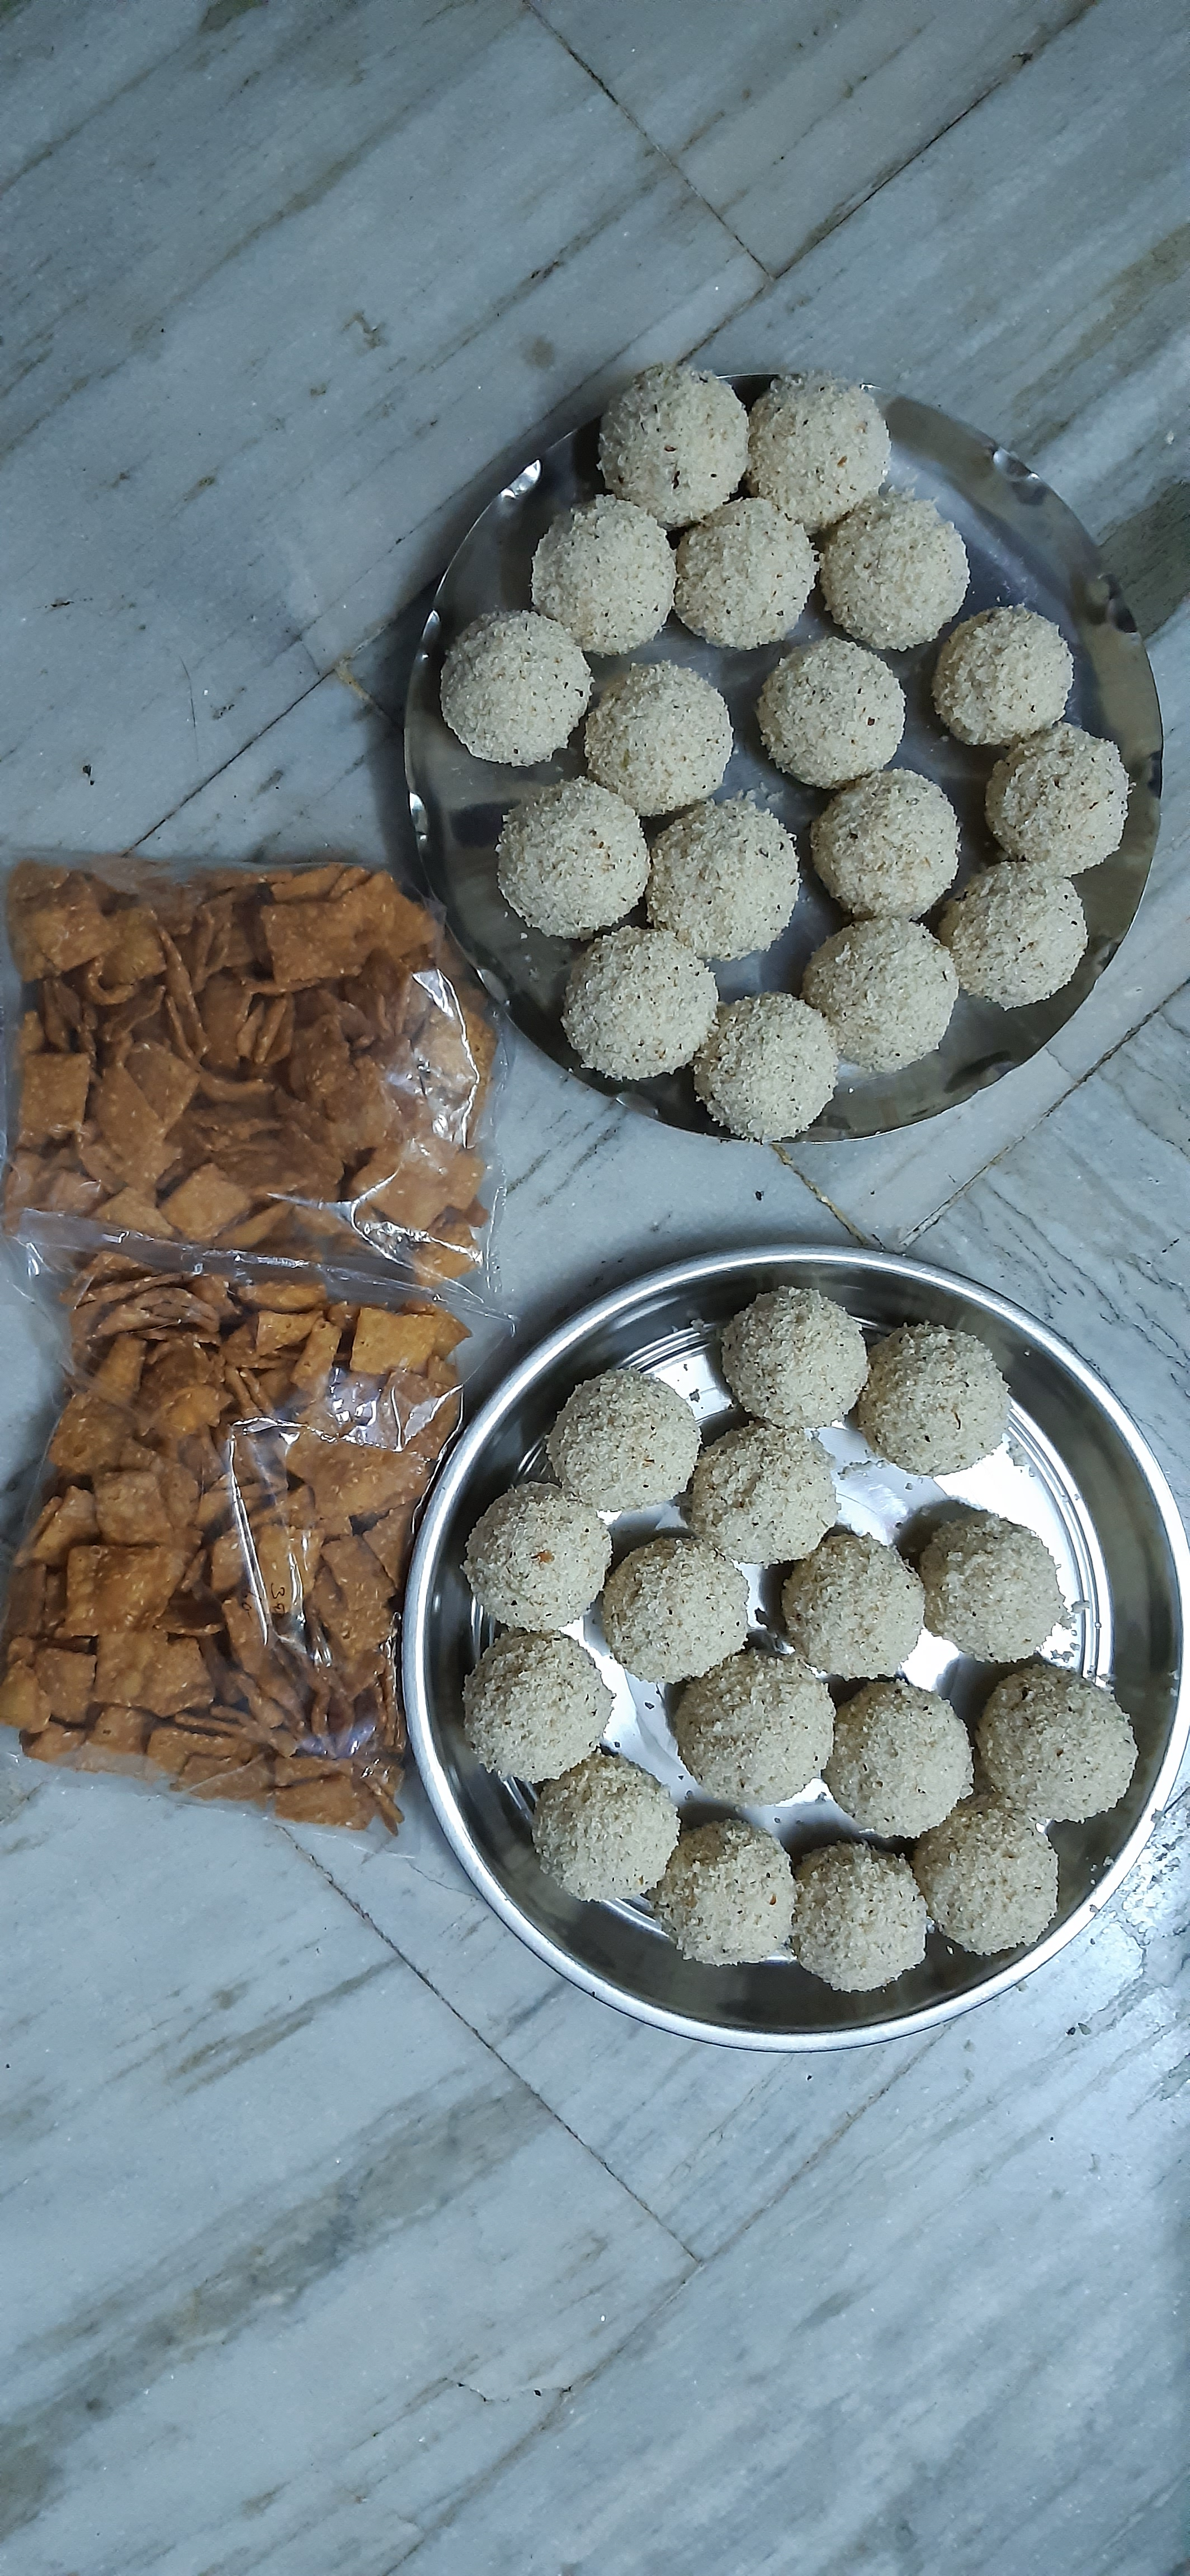food: (431, 357, 1141, 1161), (455, 1270, 1152, 2003), (0, 1217, 493, 1843), (2, 838, 529, 1339)
